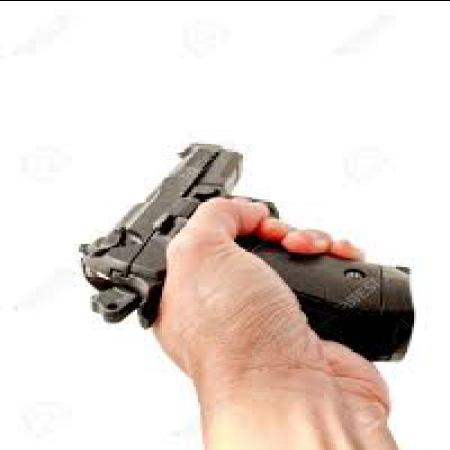Pistol: (58, 139, 412, 361)
